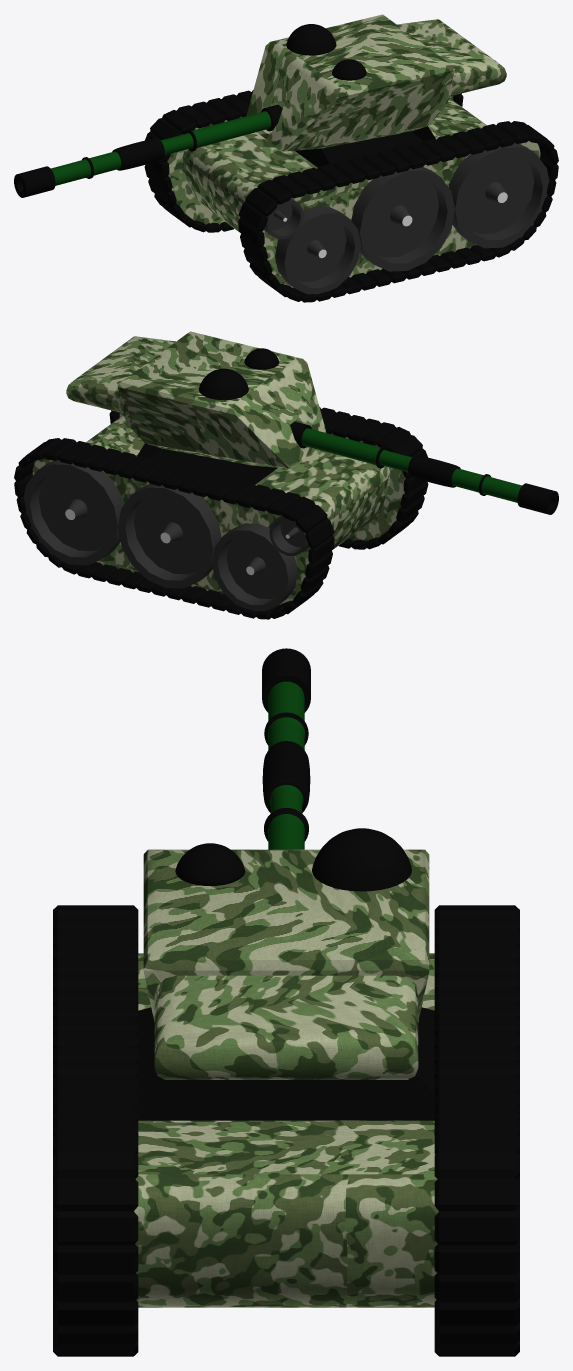
File: PlayerTank.fbx
3 renders of one model, top to bottom at view 1: azimuth 30°, elevation 25°; view 2: azimuth 150°, elevation 25°; view 3: azimuth 270°, elevation 25°, orthographic. The views are drawn at different scales.
Parts seen in each view (by area): view 1: Cube, Cylinder.003, Cube.001, Cylinder, Sphere, Sphere.001; view 2: Cube, Cylinder.003, Cube.001, Cylinder, Sphere, Sphere.001; view 3: Cube, Cube.001, Cylinder, Sphere, Sphere.001.
Part boxes in pixels (x1,y1,x2,y2): Cube: [167, 14, 540, 287]; Cylinder.003: [263, 142, 549, 294]; Cube.001: [144, 90, 558, 302]; Cylinder: [14, 104, 282, 197]; Sphere: [286, 24, 336, 55]; Sphere.001: [332, 59, 366, 80]; Cube: [32, 331, 405, 604]; Cylinder.003: [23, 459, 309, 611]; Cube.001: [14, 407, 428, 619]; Cylinder: [290, 421, 558, 514]; Sphere: [199, 368, 248, 400]; Sphere.001: [244, 348, 279, 369]; Cube: [134, 849, 438, 1307]; Cube.001: [53, 905, 519, 1356]; Cylinder: [262, 648, 310, 849]; Sphere: [312, 828, 411, 891]; Sphere.001: [175, 843, 245, 885].
Size of the model in its own units: 766 by 308 by 321.
